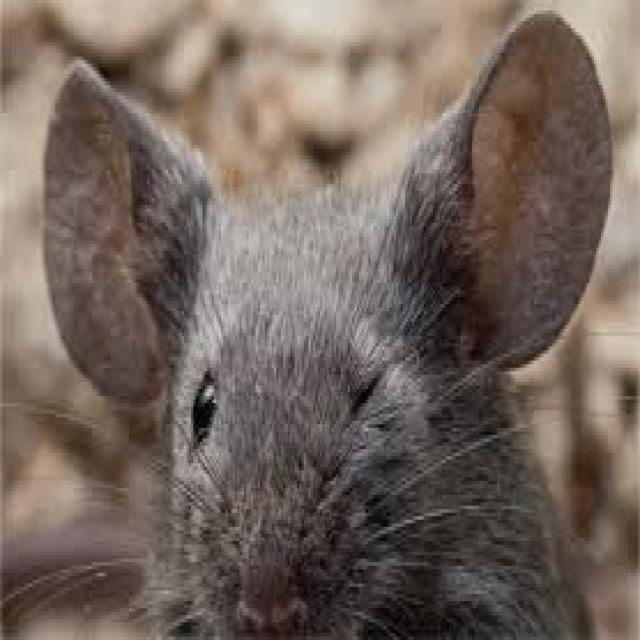Mouse: (36, 10, 603, 640)
